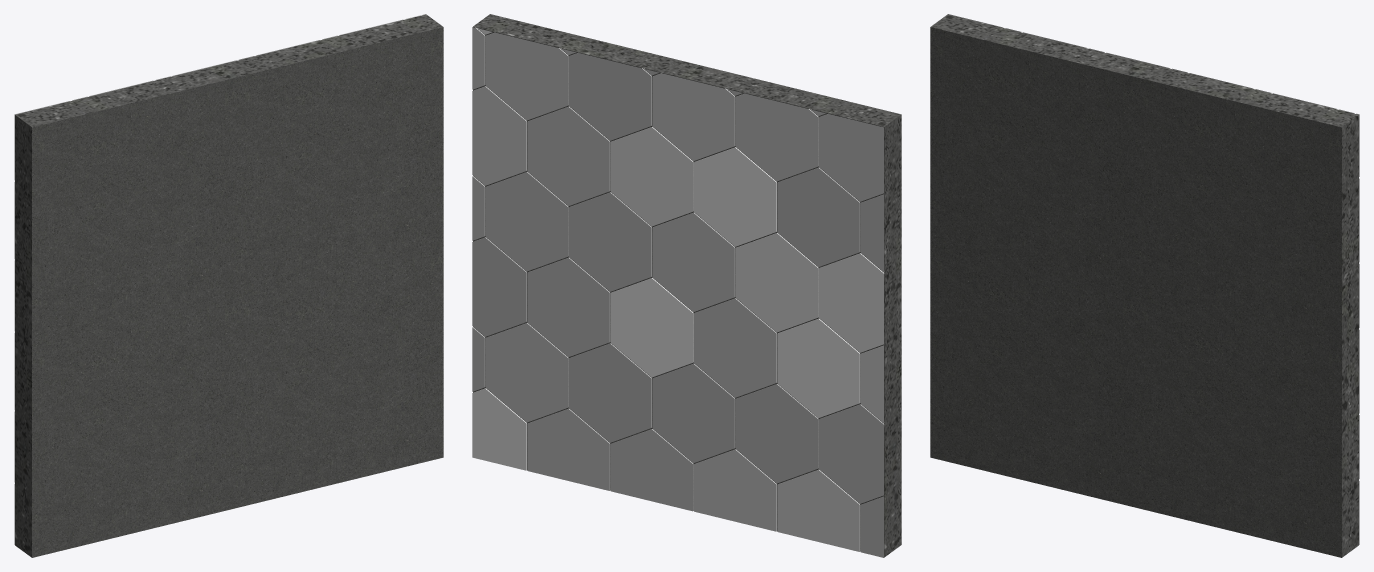
The model's file is hexagon wall.fbx.
3 views of the same model, side by side, from view 1: azimuth 30°, elevation 25°; view 2: azimuth 150°, elevation 25°; view 3: azimuth 330°, elevation 25° (orthographic).
Visible parts, largest first — view 1: Wall, Wall hexagon; view 2: Wall hexagon, Wall; view 3: Wall, Wall hexagon.
Part boxes in pixels (x1,y1,x2,y2): Wall: (15, 14, 443, 557); Wall hexagon: (14, 14, 425, 544); Wall hexagon: (472, 27, 883, 557); Wall: (473, 14, 901, 557); Wall: (930, 14, 1358, 557); Wall hexagon: (948, 14, 1359, 544).
Bounding box in the file's own units: 2 × 2 × 0.1496.
